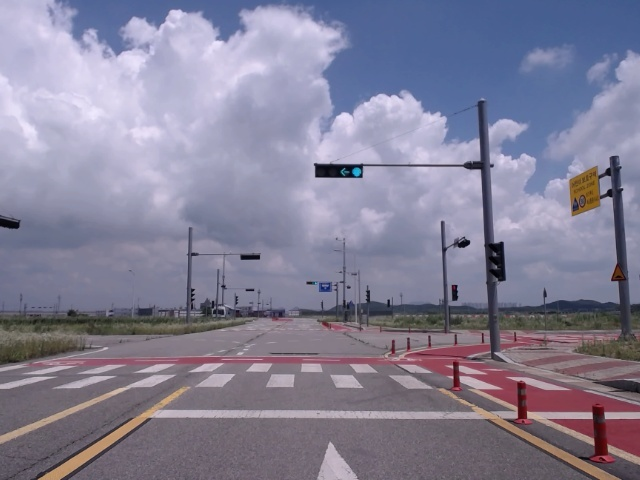all_green_4: (315, 165, 365, 177)
